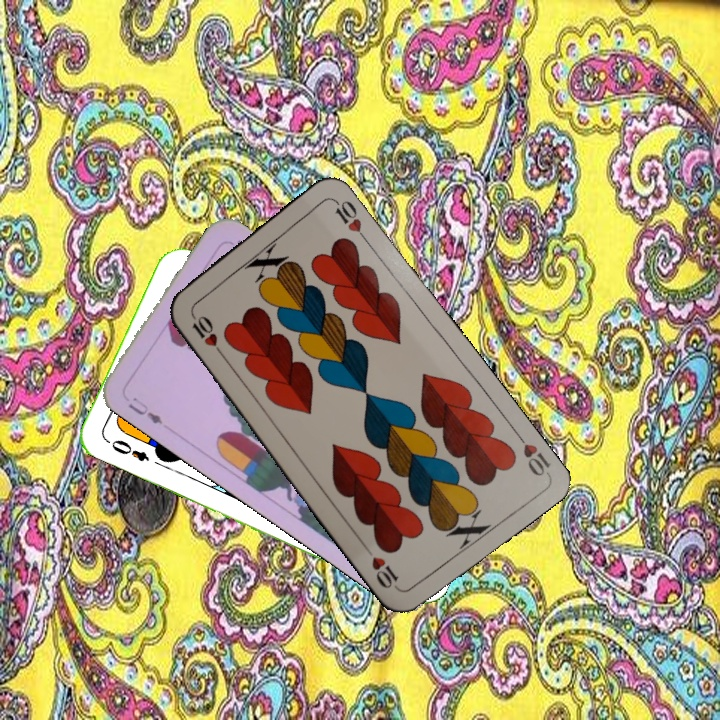EO: (107, 435, 152, 464)
EU: (124, 392, 166, 427)
H10: (510, 427, 553, 479), (187, 309, 227, 360)
